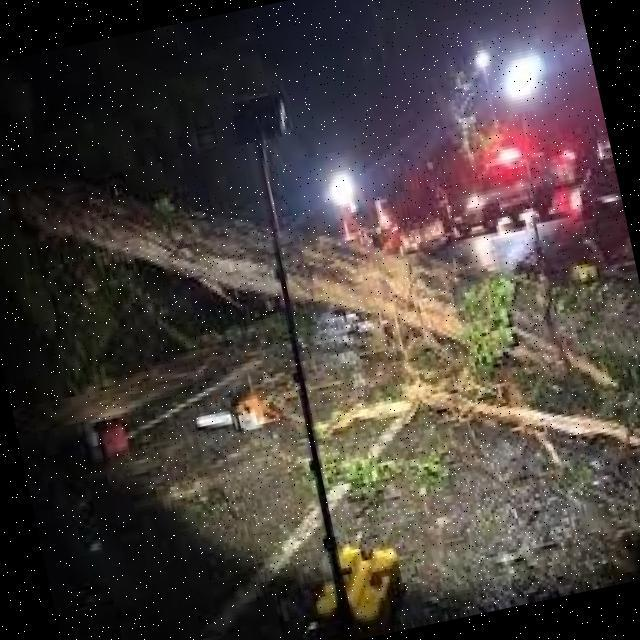fallen_object: (5, 30, 640, 497)
